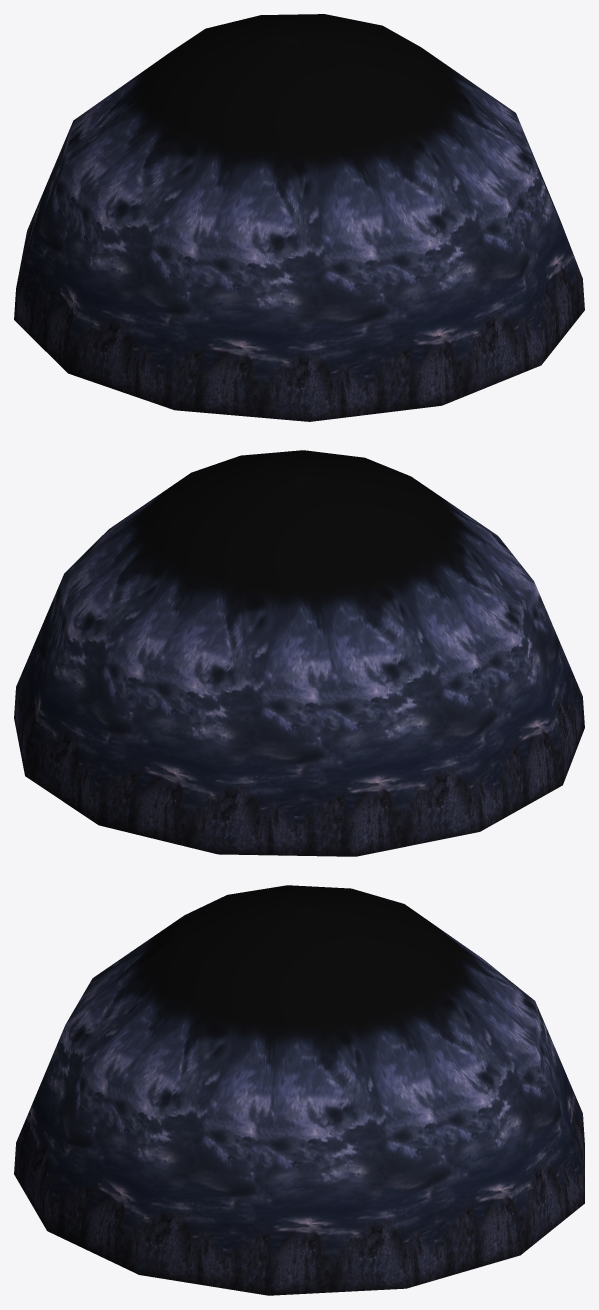
3 views of the same model, one above another, from view 1: azimuth 30°, elevation 25°; view 2: azimuth 150°, elevation 25°; view 3: azimuth 270°, elevation 25° (orthographic).
Parts seen in each view (by area): view 1: Sphere01; view 2: Sphere01; view 3: Sphere01.
Boxes of the visible parts, bbox=[...] form: Sphere01: bbox=[14, 14, 584, 421]; Sphere01: bbox=[14, 450, 584, 856]; Sphere01: bbox=[14, 885, 584, 1295].
Bounding box in the file's own units: 6537 × 3292 × 6489.
